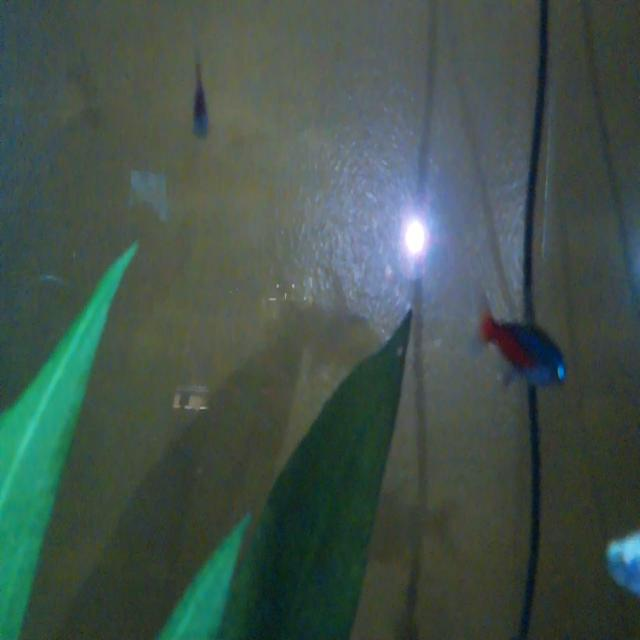fish: (463, 282, 570, 405), (176, 48, 223, 148)
